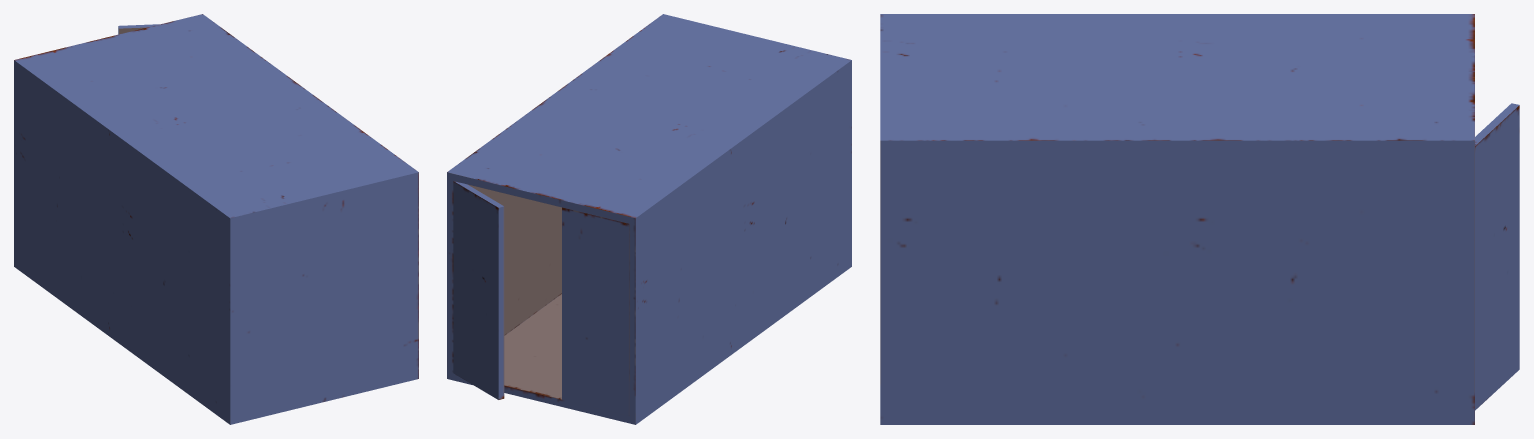
The model's file is ship_container.fbx.
The picture shows the model from 3 angles, left to right: view 1: azimuth 30°, elevation 25°; view 2: azimuth 150°, elevation 25°; view 3: azimuth 270°, elevation 25°; orthographic projection. The views are drawn at different scales.
Visible parts, largest first — view 1: Cube.086; view 2: Cube.086, Cube.087, Cube.104; view 3: Cube.086, Cube.104.
Boxes of the visible parts, x1,y1,x2,y2 form: Cube.086: (14, 14, 418, 424); Cube.086: (447, 14, 851, 424); Cube.087: (562, 207, 629, 415); Cube.104: (453, 181, 504, 399); Cube.086: (880, 14, 1474, 424); Cube.104: (1475, 103, 1519, 410).
Size of the model in its own units: 2008 by 2101 by 4285.
1 material, 1 textured.
